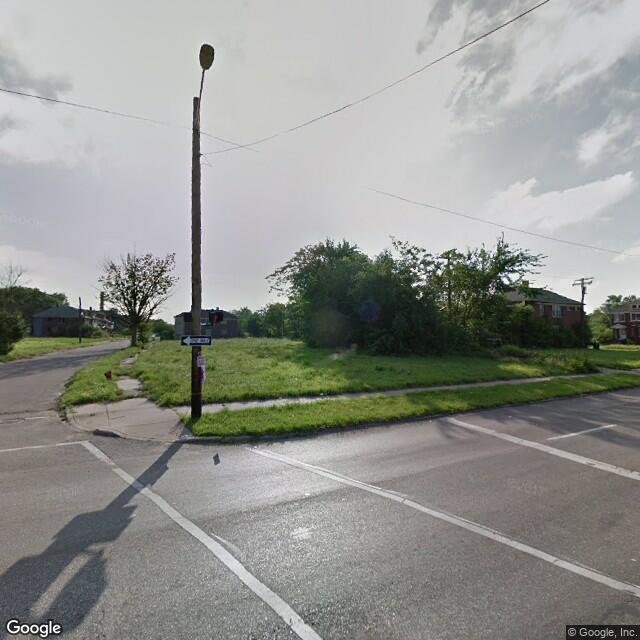litter: (58, 391, 63, 399), (504, 402, 511, 406)
